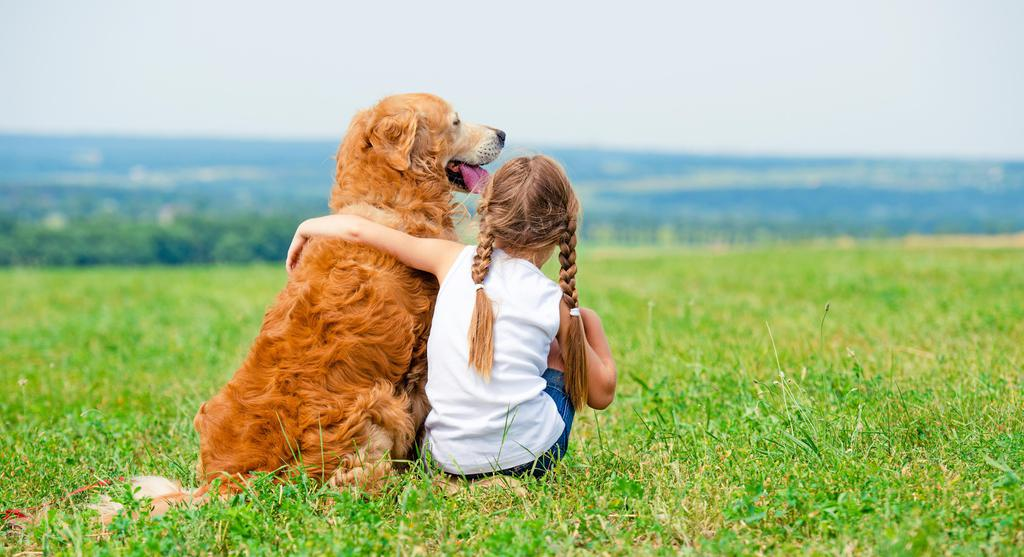child: (425, 152, 627, 497)
